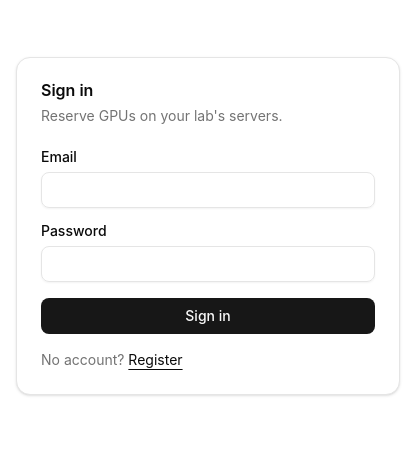
Test case: login › tells the user how long to wait when throttled
Type "ada@example.edu" into the field labelled "Email" at (208, 190), box [41,172,375,208]
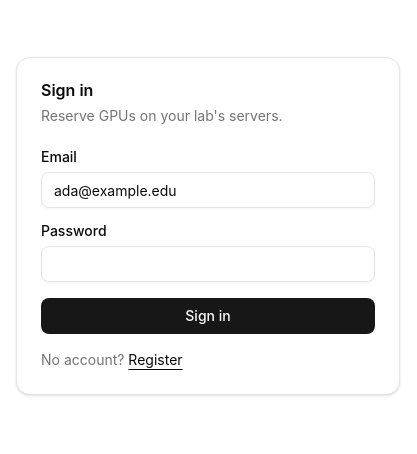
Type "whatever-1" into the password field labelled "Password" at (208, 264), box [41,246,375,282]
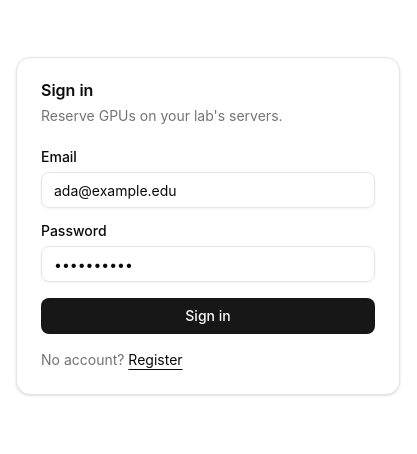
Click the button "Sign in" at (208, 316), box [41,298,375,334]
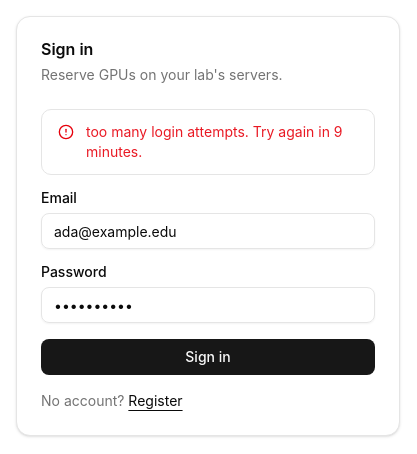
Check: the message shows "Try again in 9 minutes.", box [86,123,343,160]
